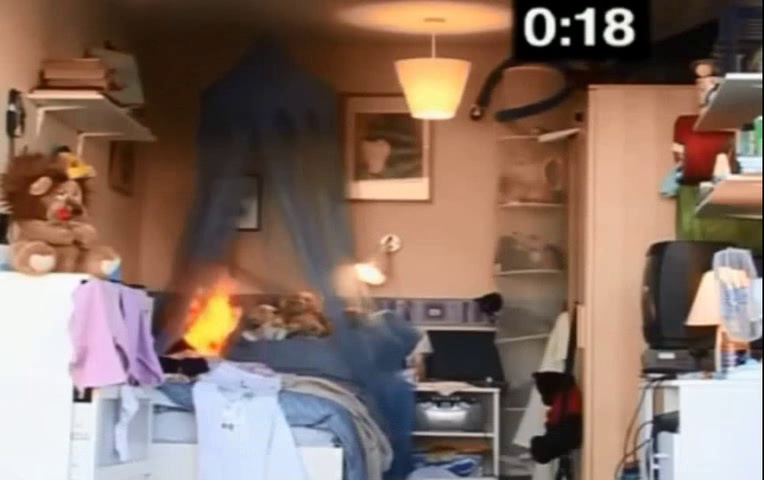fire: (178, 262, 244, 369)
